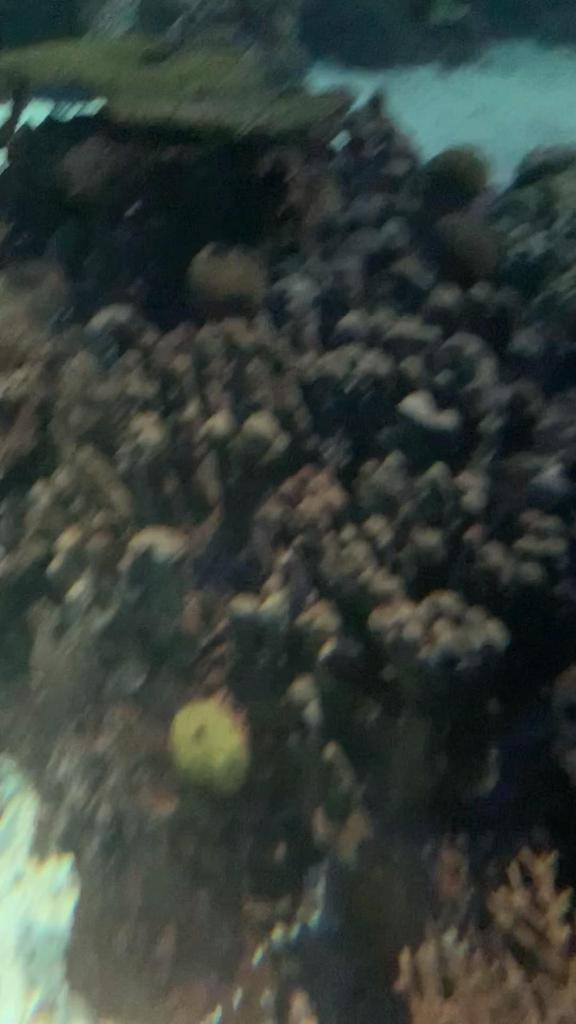fish: (164, 698, 258, 802)
